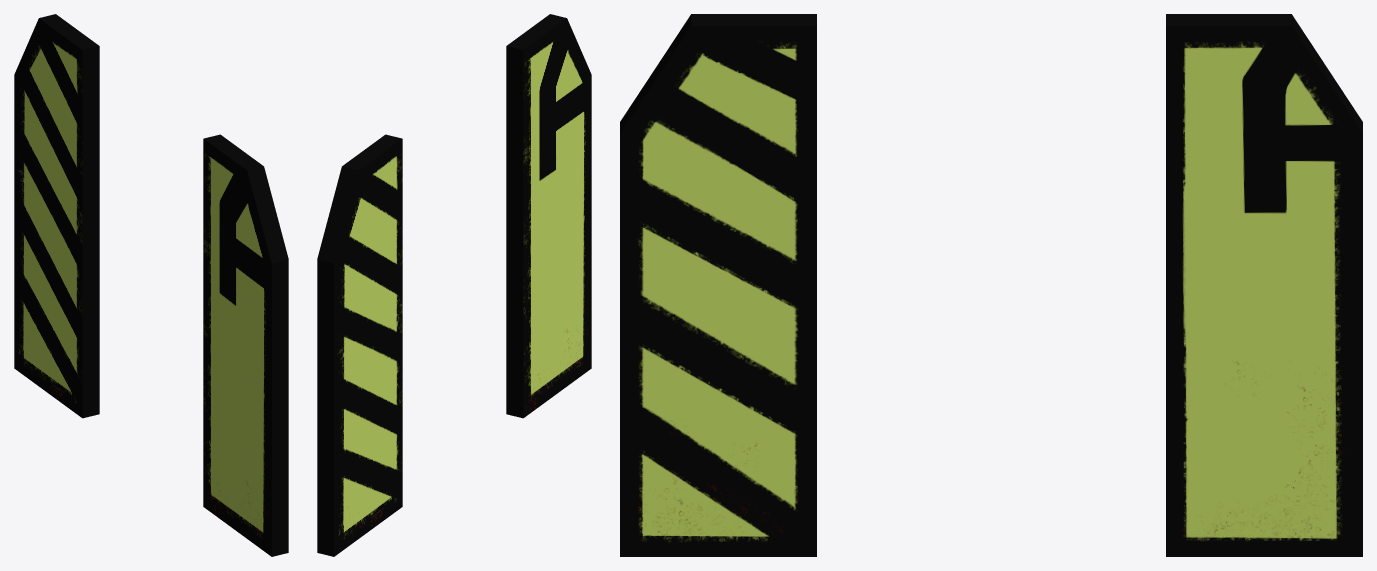
The model's file is porte ouverte.fbx.
3 renders of one model, left to right at view 1: azimuth 30°, elevation 25°; view 2: azimuth 150°, elevation 25°; view 3: azimuth 270°, elevation 25°, orthographic. The views are drawn at different scales.
Parts seen in each view (by area): view 1: porte; view 2: porte; view 3: porte.
Boxes of the visible parts, left/top/right/bottom form: porte: left=14, top=14, right=288, bottom=556; porte: left=317, top=14, right=591, bottom=556; porte: left=620, top=14, right=1362, bottom=556.
Bounding box in the file's own units: 14.32 × 297 × 377.
1 material, 1 textured.
